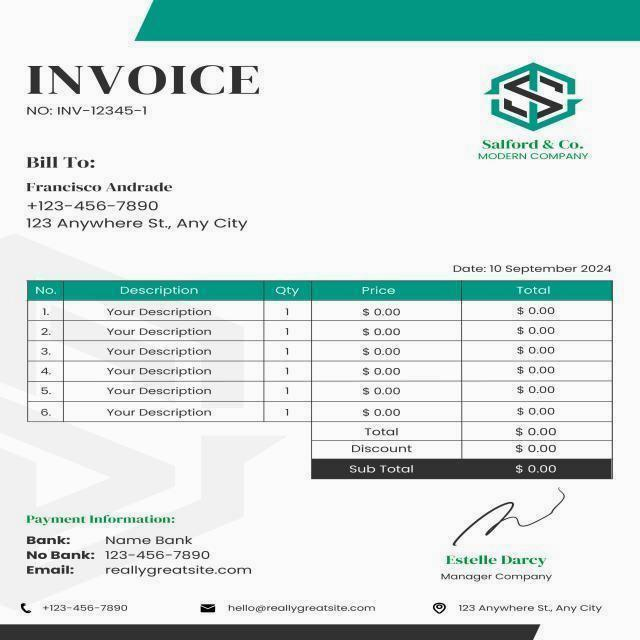paragraph: (13, 151, 262, 243), (13, 502, 266, 592), (458, 60, 605, 184), (311, 424, 611, 484), (434, 487, 589, 587), (21, 57, 274, 98), (191, 594, 384, 620), (428, 599, 605, 621), (24, 101, 156, 124), (11, 599, 139, 621), (449, 261, 609, 277)
table: (21, 278, 614, 422)
